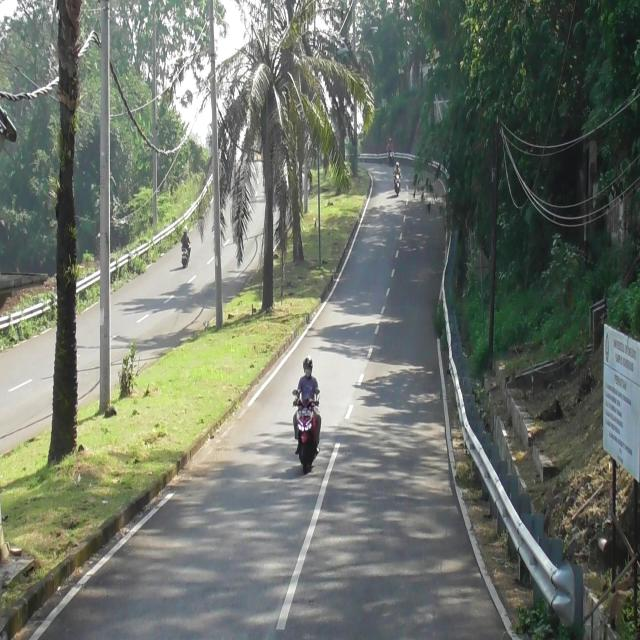motorcycle: (290, 385, 320, 469), (180, 249, 189, 268), (394, 176, 402, 196), (388, 149, 394, 164)
person: (292, 356, 324, 449), (182, 227, 190, 252), (394, 160, 402, 178), (388, 136, 393, 150)
rider_region: (292, 357, 324, 474), (393, 158, 403, 197), (181, 228, 190, 268), (388, 138, 394, 162)
